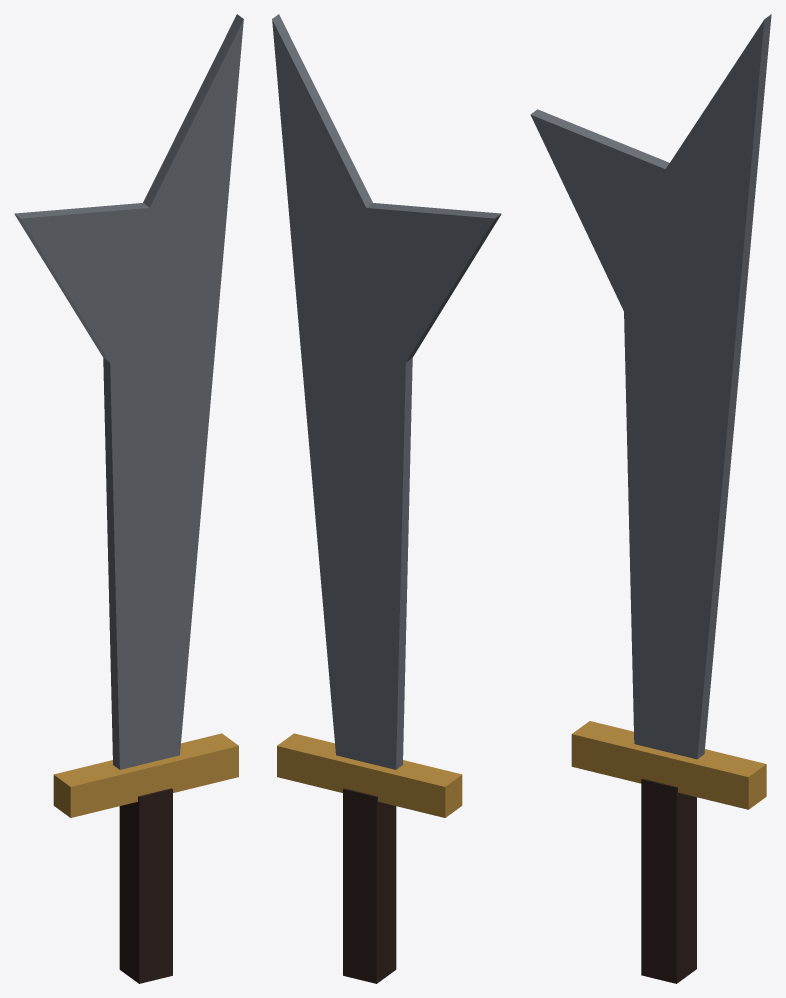
Rendered from SM_Prop_HookSabre_LQ.glb.
3 views of the same model, side by side, from view 1: azimuth 30°, elevation 25°; view 2: azimuth 150°, elevation 25°; view 3: azimuth 330°, elevation 25° (orthographic). The views are drawn at different scales.
Visible parts, largest first — view 1: SM_Prop_HookSabre_LQ; view 2: SM_Prop_HookSabre_LQ; view 3: SM_Prop_HookSabre_LQ.
Boxes of the visible parts, bbox=[...] form: SM_Prop_HookSabre_LQ: bbox=[14, 14, 243, 983]; SM_Prop_HookSabre_LQ: bbox=[272, 14, 501, 983]; SM_Prop_HookSabre_LQ: bbox=[530, 14, 771, 983].
Bounding box in the file's own units: 0.225 × 0.9 × 0.0339.
1 material, 1 textured.
